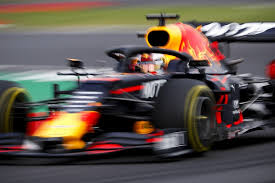FormulaOneCar: (2, 13, 275, 164)
